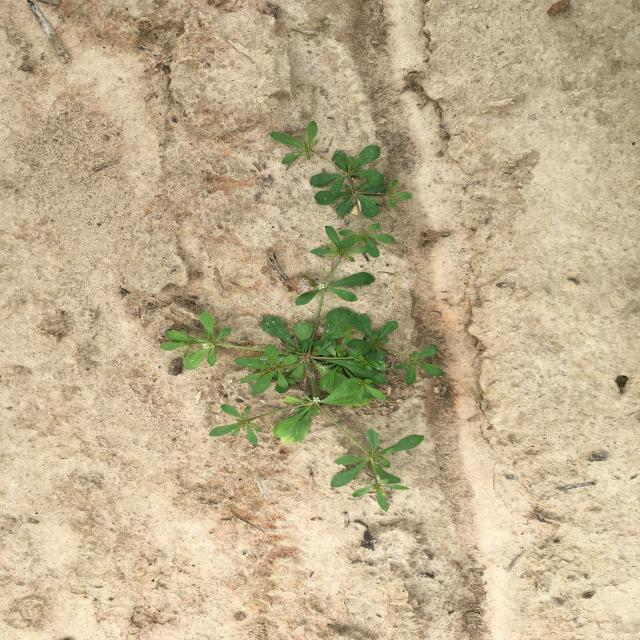Carpetweed: (159, 225, 444, 512), (270, 121, 413, 257)
